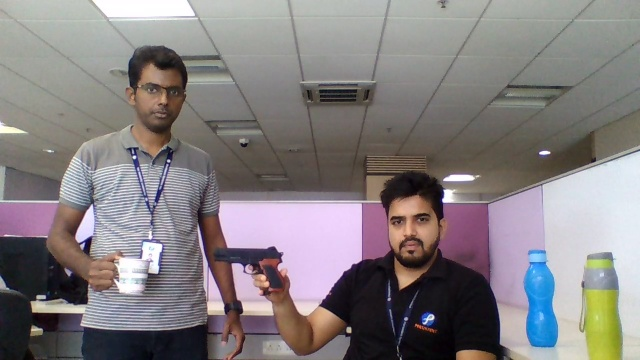gun: (214, 248, 280, 269)
